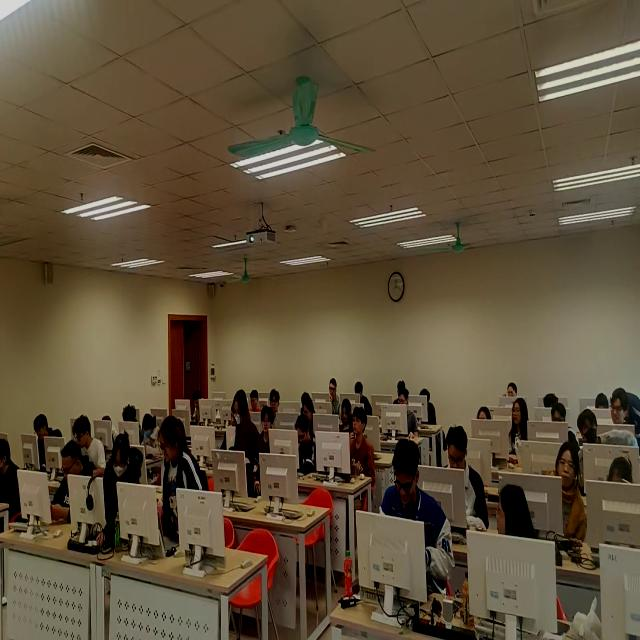raise_head: (530, 444, 592, 537), (337, 406, 376, 492), (504, 396, 532, 463), (573, 410, 602, 449), (607, 388, 633, 428), (320, 378, 343, 422), (257, 409, 280, 448), (501, 382, 521, 405), (270, 387, 285, 417)
stand: (159, 417, 203, 568), (224, 394, 260, 509)
using_computer: (374, 439, 449, 610), (30, 449, 99, 542), (436, 424, 487, 540), (100, 439, 142, 548), (586, 447, 640, 531), (286, 417, 323, 477), (546, 400, 582, 457), (25, 414, 59, 472), (132, 416, 166, 465), (391, 391, 422, 443), (73, 417, 106, 464), (416, 383, 442, 435), (179, 390, 210, 432), (330, 401, 355, 441), (472, 401, 496, 439), (118, 406, 140, 445), (351, 380, 373, 413), (247, 387, 263, 420)
